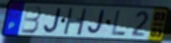2: (130, 11, 150, 38)
B: (20, 6, 42, 34)
H: (62, 7, 88, 36)
J: (43, 7, 63, 34), (86, 9, 106, 36)
L: (110, 10, 127, 37)
